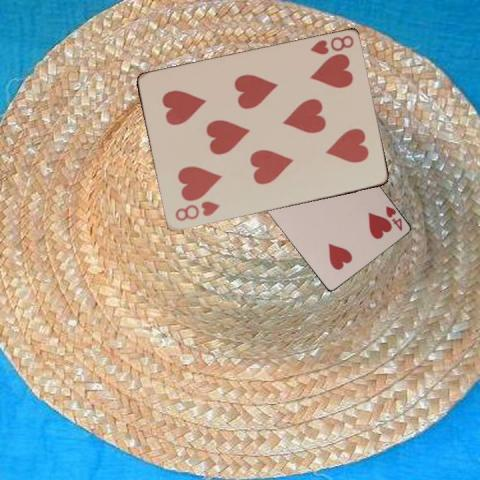4h: (382, 202, 403, 232)
8h: (172, 198, 222, 223), (307, 33, 355, 56)
